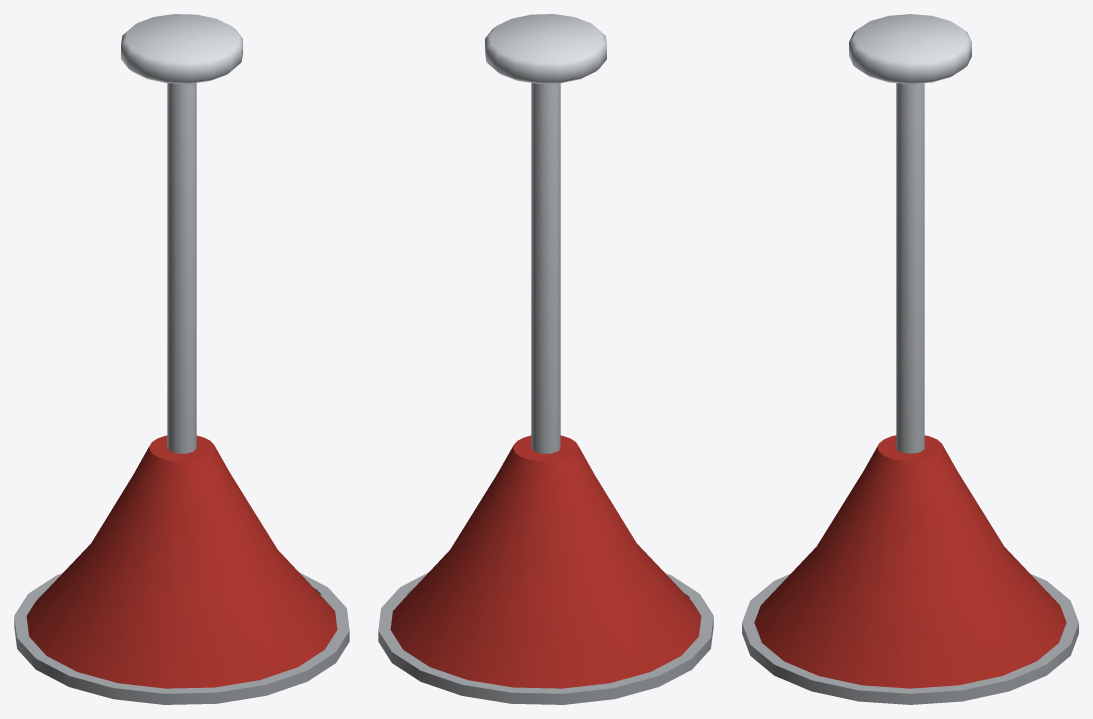
The model's file is SM_Light_Pendant_Diner_01.glb.
The picture shows the model from 3 angles, left to right: view 1: azimuth 30°, elevation 25°; view 2: azimuth 150°, elevation 25°; view 3: azimuth 270°, elevation 25°; orthographic projection.
Visible parts, largest first — view 1: SM_Light_Pendant_Diner_01; view 2: SM_Light_Pendant_Diner_01; view 3: SM_Light_Pendant_Diner_01.
Boxes of the visible parts, box(x1,y1,x2,y2) form: SM_Light_Pendant_Diner_01: box(14, 14, 349, 704); SM_Light_Pendant_Diner_01: box(378, 14, 713, 704); SM_Light_Pendant_Diner_01: box(742, 14, 1078, 704).
Size of the model in its own units: 0.41 by 0.8 by 0.41.
1 material, 1 textured.
